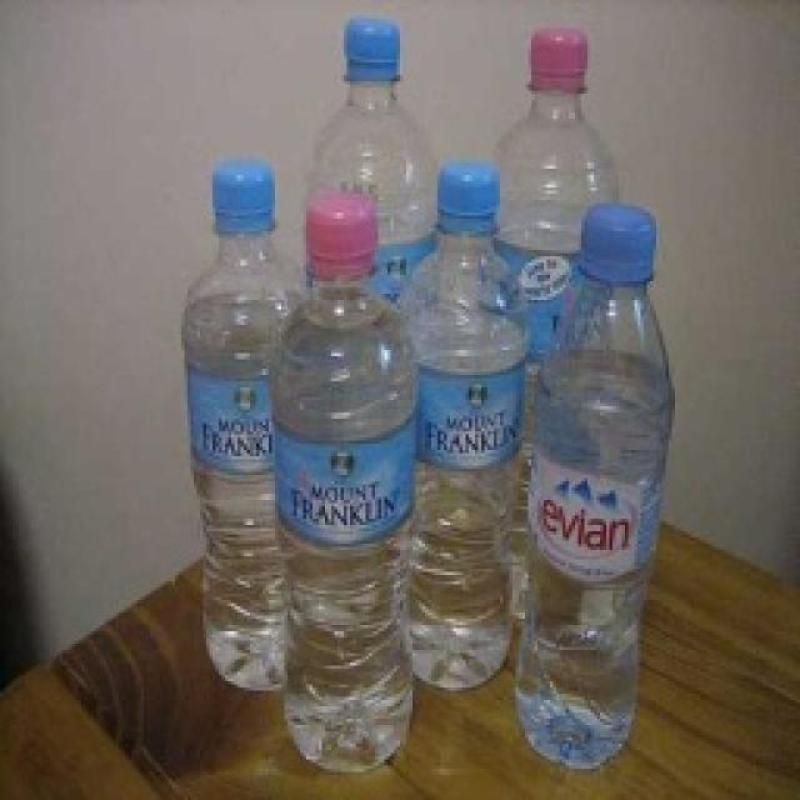botella: (517, 206, 677, 772), (274, 196, 414, 769), (489, 25, 620, 616), (403, 160, 519, 690), (184, 164, 288, 693), (308, 12, 442, 303)
